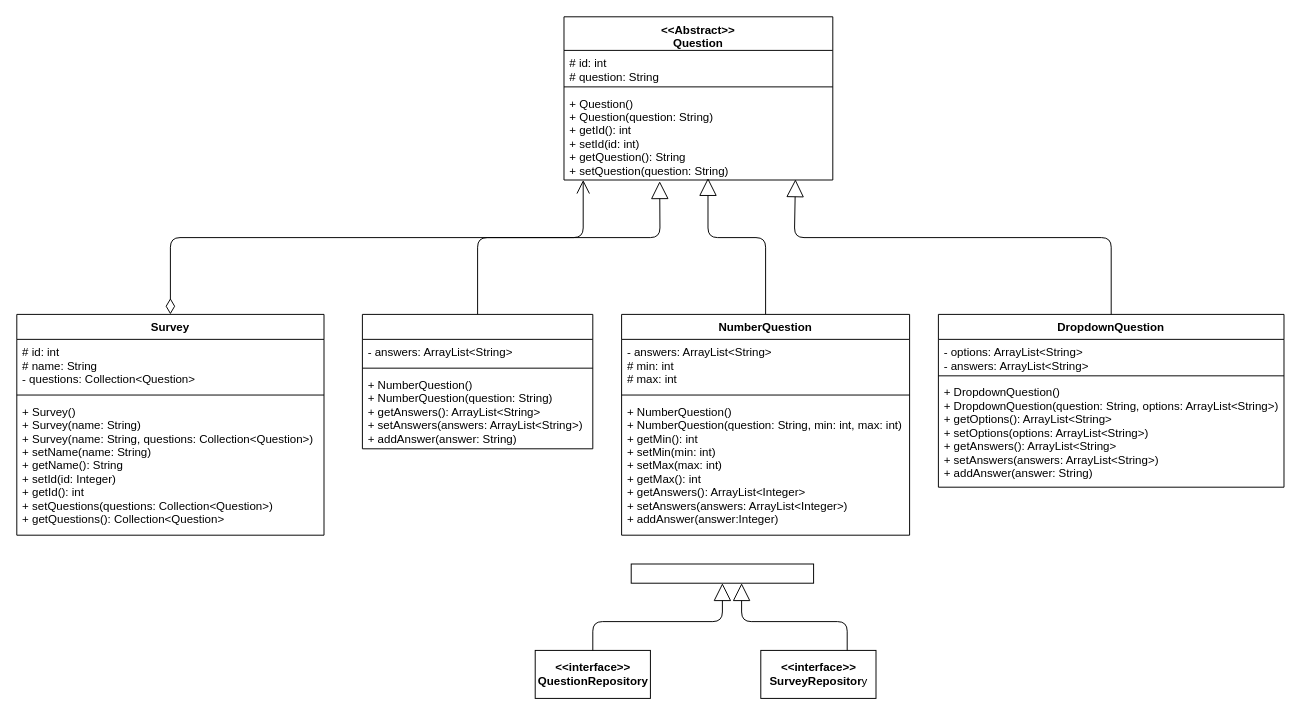
The diagram is 1301 pixels wide and 715 high, and some of its shapes have lost their labels. Here are the shapes that lost their labels. From the top down, the box of each, then its label:
(361, 313, 593, 449): OpenEndedQuestion
(630, 563, 814, 583): PagingAndSortingRepository
